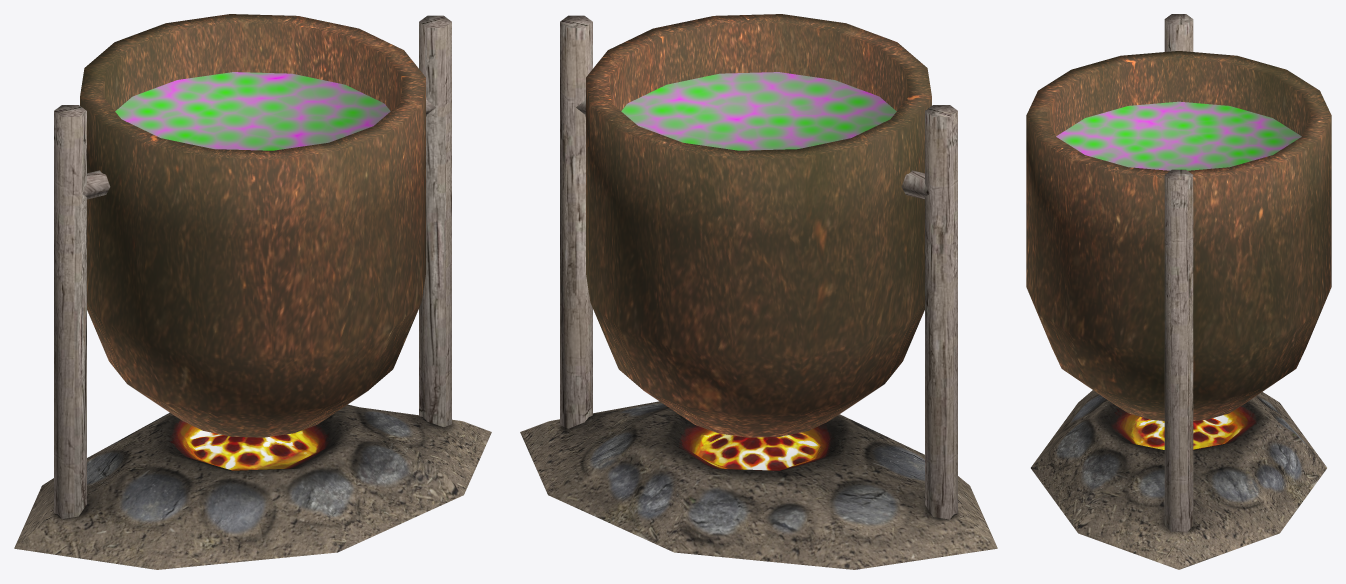
Rendered from oversizedcookingpot.fbx.
The picture shows the model from 3 angles, left to right: view 1: azimuth 30°, elevation 25°; view 2: azimuth 150°, elevation 25°; view 3: azimuth 270°, elevation 25°; orthographic projection. The views are drawn at different scales.
Visible parts, largest first — view 1: oversizedcookingpot; view 2: oversizedcookingpot; view 3: oversizedcookingpot.
Boxes of the visible parts, left/top/right/bottom form: oversizedcookingpot: left=14, top=14, right=491, bottom=569; oversizedcookingpot: left=520, top=14, right=997, bottom=569; oversizedcookingpot: left=1026, top=14, right=1331, bottom=569.
Bounding box in the file's own units: 1.22 × 1.03 × 0.7714.
